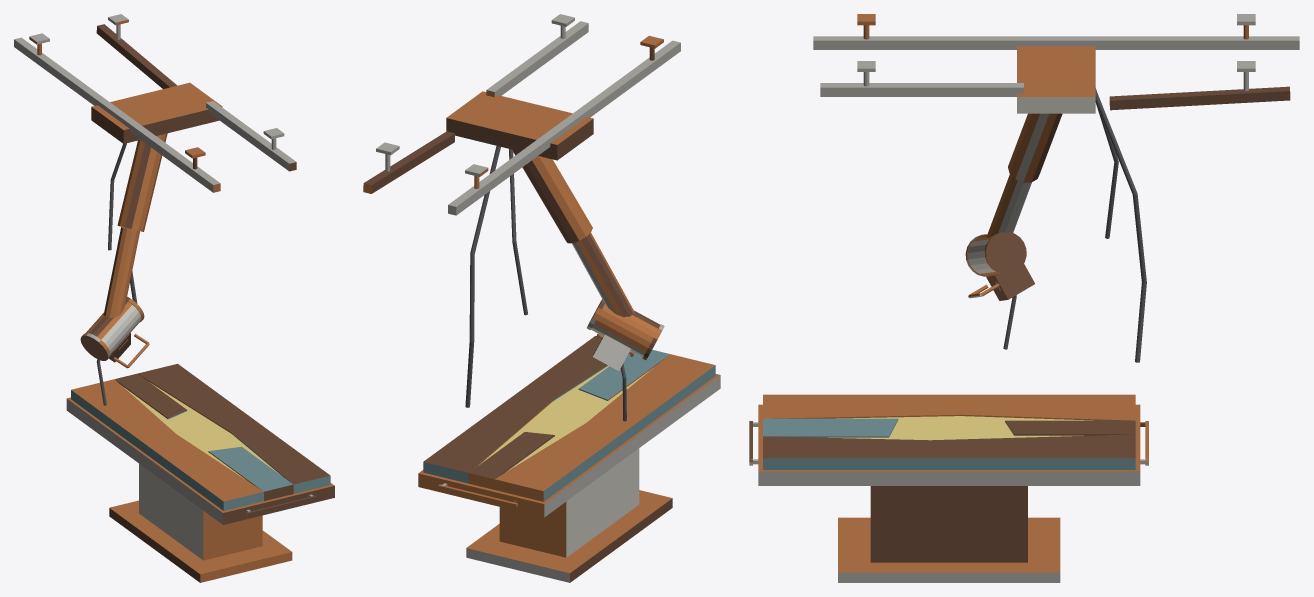
Rendered from xray_bed_v2.fbx.
The picture shows the model from 3 angles, left to right: view 1: azimuth 30°, elevation 25°; view 2: azimuth 150°, elevation 25°; view 3: azimuth 270°, elevation 25°; orthographic projection. The views are drawn at different scales.
Parts seen in each view (by area): view 1: 02_XrayCrane_Damaged_Table_Cushion_Mat, 02_XrayCrane_Damaged_Telescopic_Arm_Carriage; view 2: 02_XrayCrane_Damaged_Table_Cushion_Mat, 02_XrayCrane_Damaged_Telescopic_Arm_Carriage; view 3: 02_XrayCrane_Damaged_Table_Cushion_Mat, 02_XrayCrane_Damaged_Telescopic_Arm_Carriage.
Part boxes in pixels (x1,y1,x2,y2): 02_XrayCrane_Damaged_Table_Cushion_Mat: [66, 363, 334, 582]; 02_XrayCrane_Damaged_Telescopic_Arm_Carriage: [14, 14, 296, 405]; 02_XrayCrane_Damaged_Table_Cushion_Mat: [418, 336, 720, 582]; 02_XrayCrane_Damaged_Telescopic_Arm_Carriage: [363, 14, 680, 421]; 02_XrayCrane_Damaged_Table_Cushion_Mat: [749, 394, 1148, 582]; 02_XrayCrane_Damaged_Telescopic_Arm_Carriage: [813, 14, 1299, 362].
Bounding box in the file's own units: 94.27 × 245 × 238.
